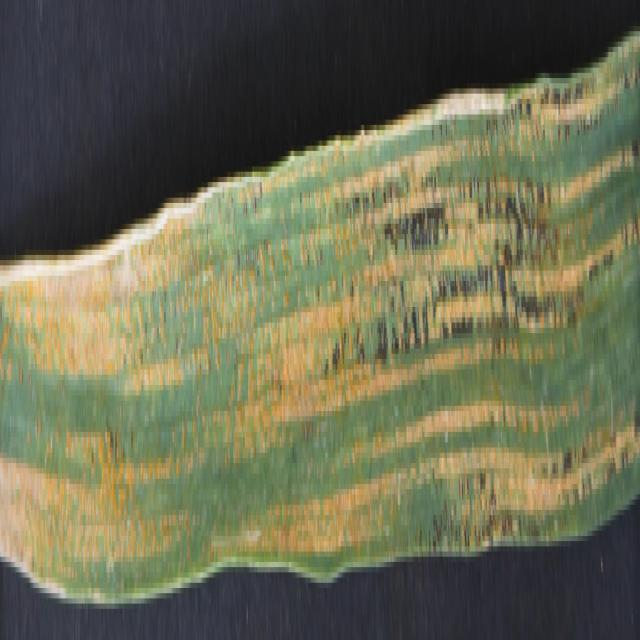leaf rust: (0, 72, 640, 598)
